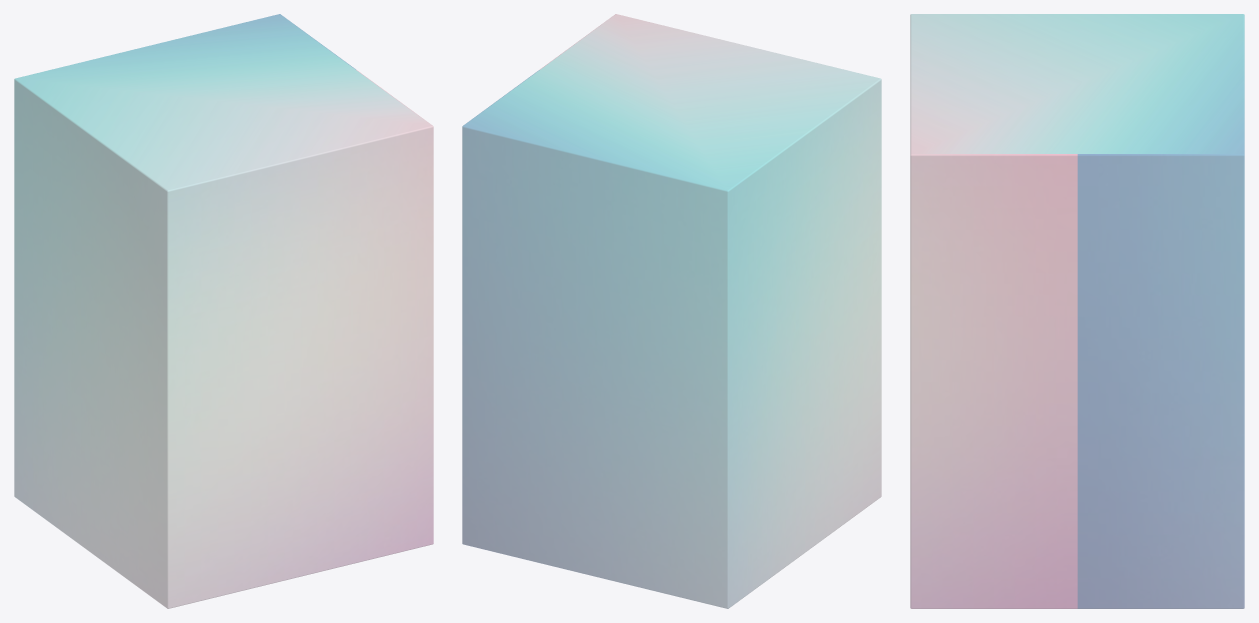
The picture shows the model from 3 angles, left to right: view 1: azimuth 30°, elevation 25°; view 2: azimuth 150°, elevation 25°; view 3: azimuth 270°, elevation 25°; orthographic projection. The views are drawn at different scales.
Parts seen in each view (by area): view 1: 立方体; view 2: 立方体; view 3: 立方体.
Boxes of the visible parts, <box> form: 立方体: <box>14,14,433,608</box>; 立方体: <box>462,14,881,608</box>; 立方体: <box>910,14,1244,608</box>.
Size of the model in its own units: 200 by 300 by 200.
1 material, 1 textured.
